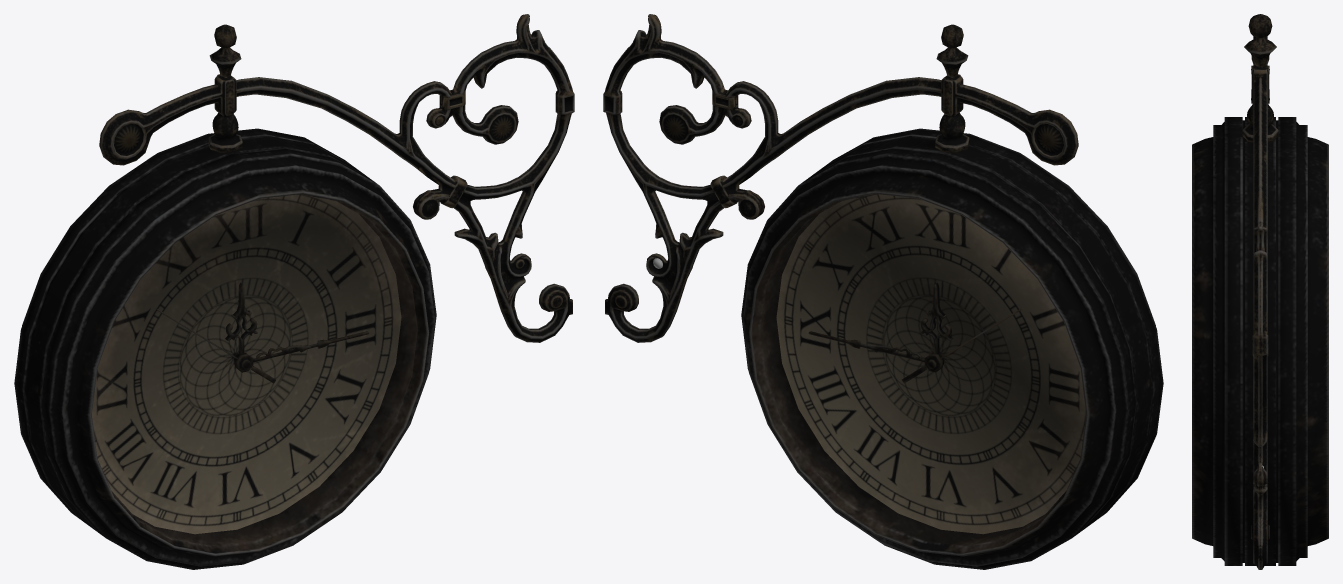
Rendered from clock3d.glb.
3 views of the same model, side by side, from view 1: azimuth 30°, elevation 25°; view 2: azimuth 150°, elevation 25°; view 3: azimuth 270°, elevation 25° (orthographic).
Visible parts, largest first — view 1: clock_low; view 2: clock_low; view 3: clock_low.
Boxes of the visible parts, x1=… form: clock_low: x1=14, y1=14, x2=574, y2=569; clock_low: x1=603, y1=14, x2=1163, y2=569; clock_low: x1=1192, y1=14, x2=1328, y2=569.
Size of the model in its own units: 2 by 1.86 by 0.4347.
1 material, 1 textured.
